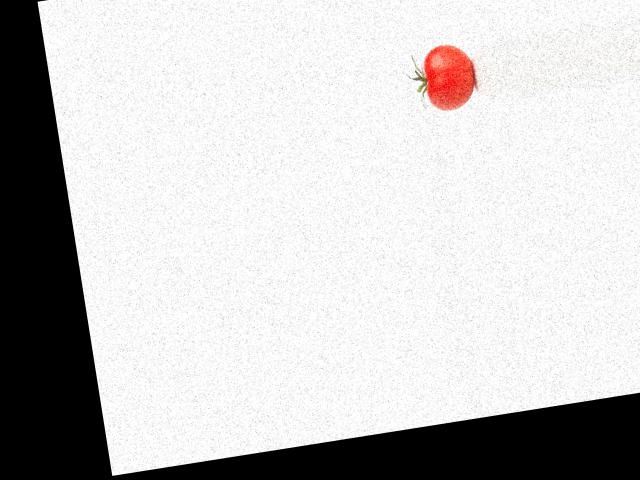tomato: (420, 40, 478, 112)
